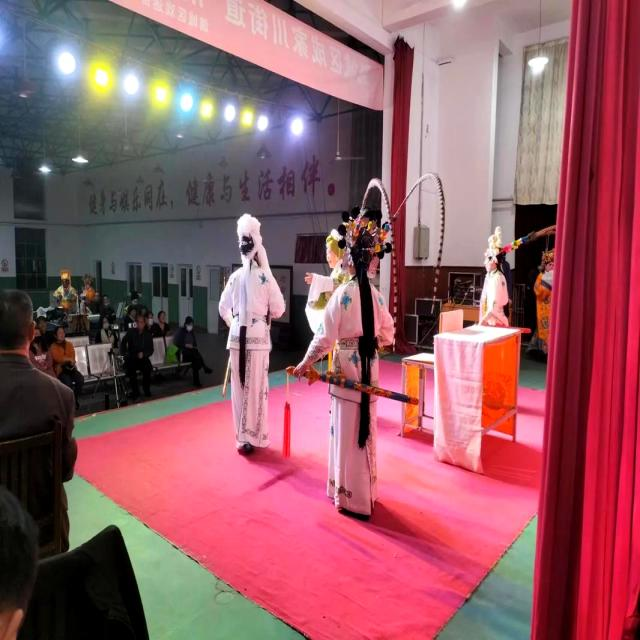Reeves-s Pheasant: (375, 162, 457, 340), (358, 177, 408, 374)
